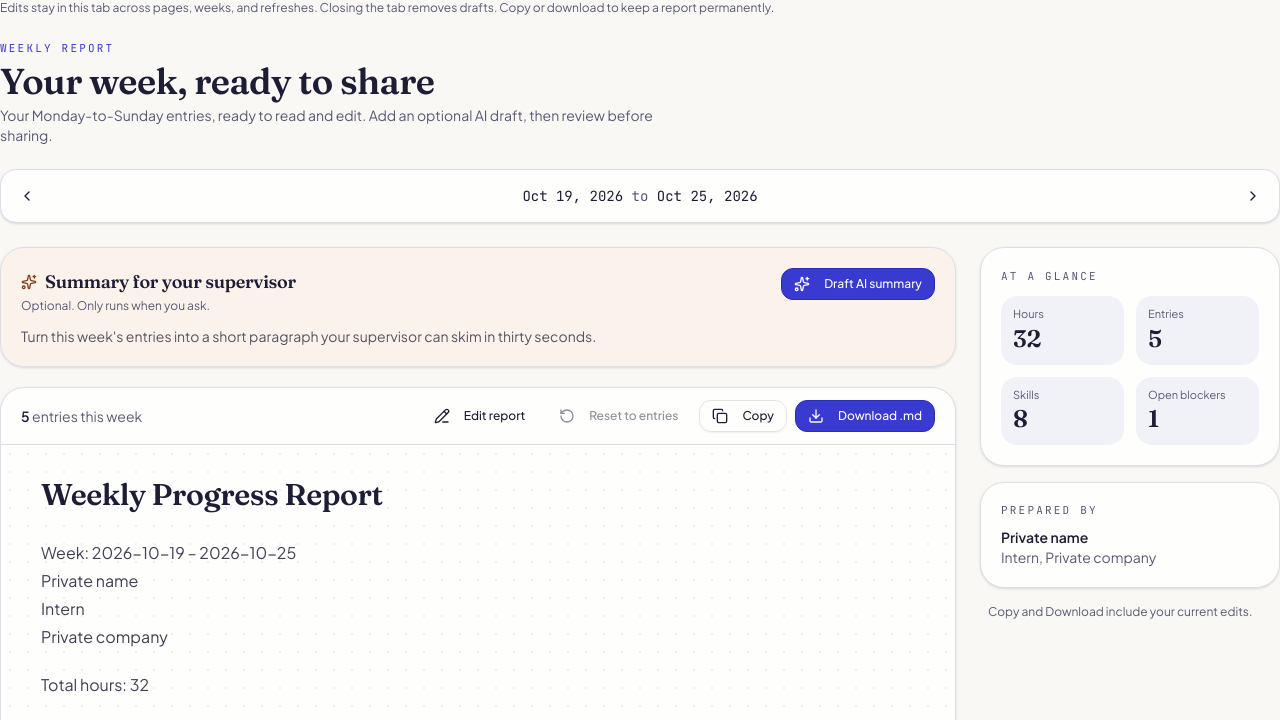
Scenario: retains a generated draft on a storage failure and never pretends it was saved
The image size is (1280, 720).
Click the button with test id "button-ai-summary": (858, 284) top-left (781, 268), bottom-right (935, 300)
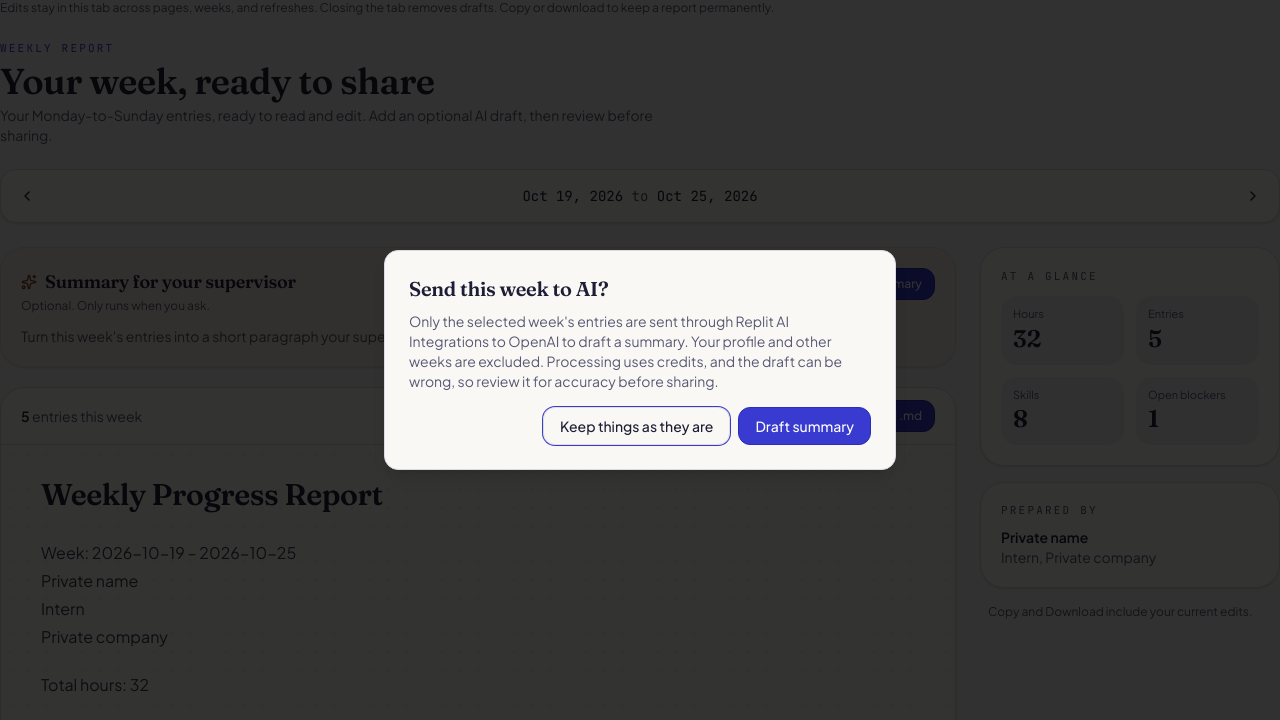
Click the button with test id "button-confirm-action": (805, 426) top-left (738, 407), bottom-right (871, 445)
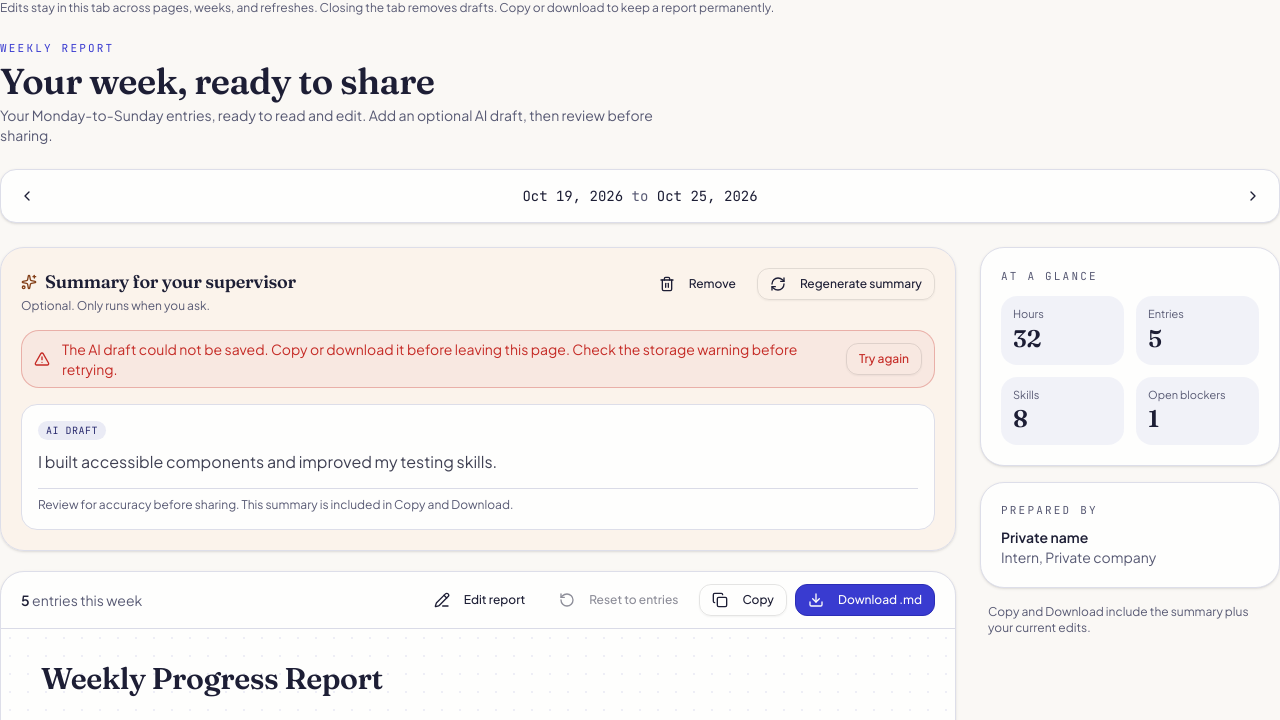
Result: the element with test id "text-ai-summary" shows "accessible components" at top-left (38, 450), bottom-right (497, 472)
